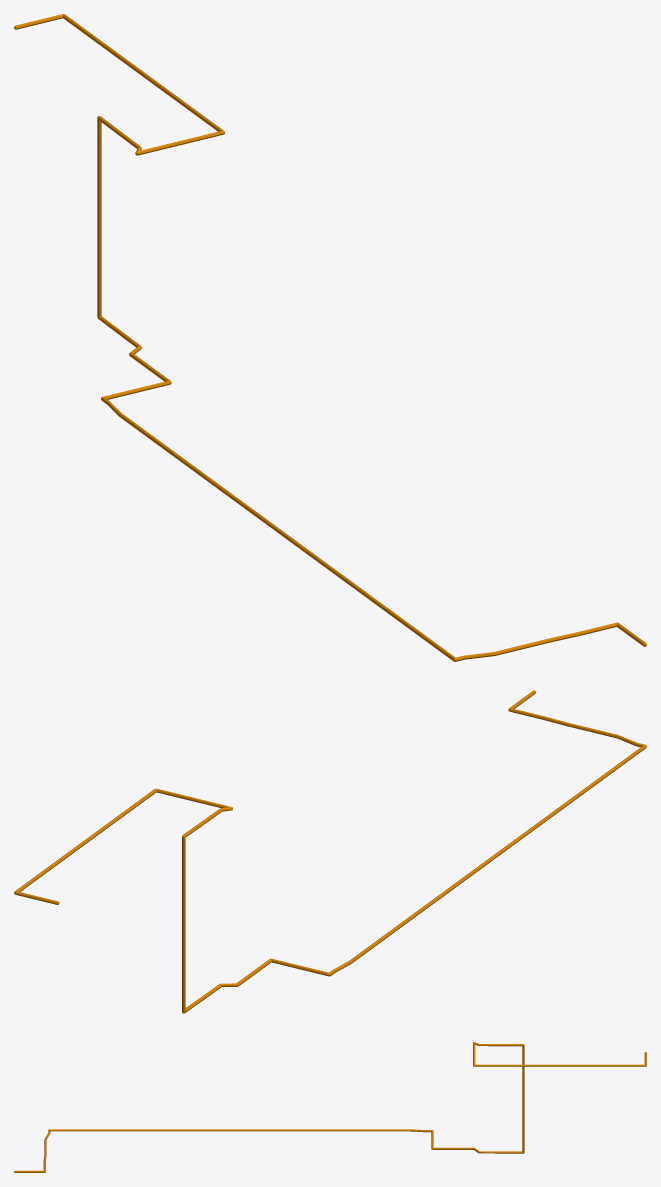
3 renders of one model, top to bottom at view 1: azimuth 30°, elevation 25°; view 2: azimuth 150°, elevation 25°; view 3: azimuth 270°, elevation 25°, orthographic. The views are drawn at different scales.
Size of the model in its own units: 871 by 1020 by 5347.
